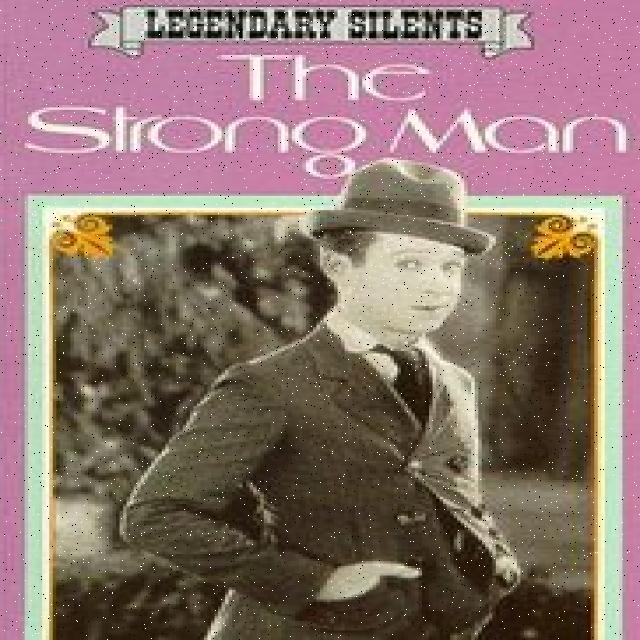movie-judul: (12, 5, 640, 182)
picture: (0, 158, 640, 640)
